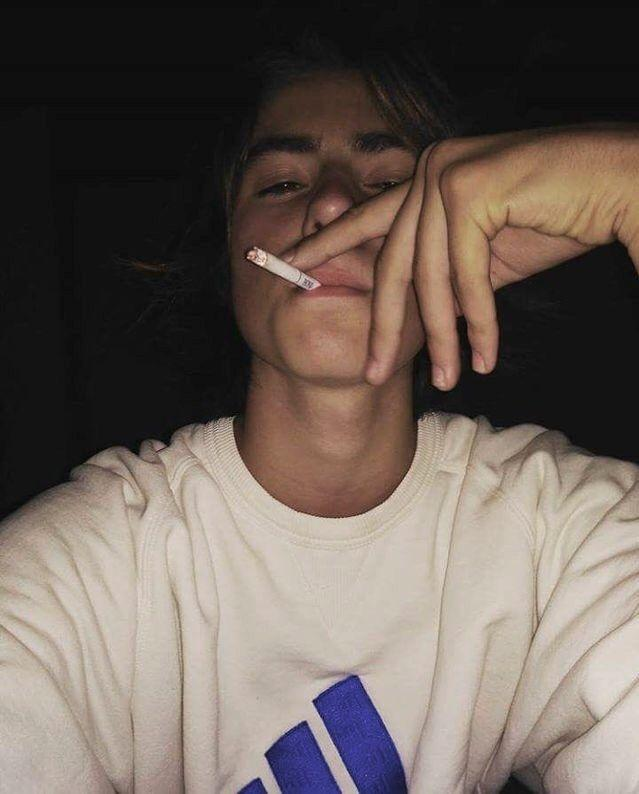cigarette: (246, 247, 322, 290)
